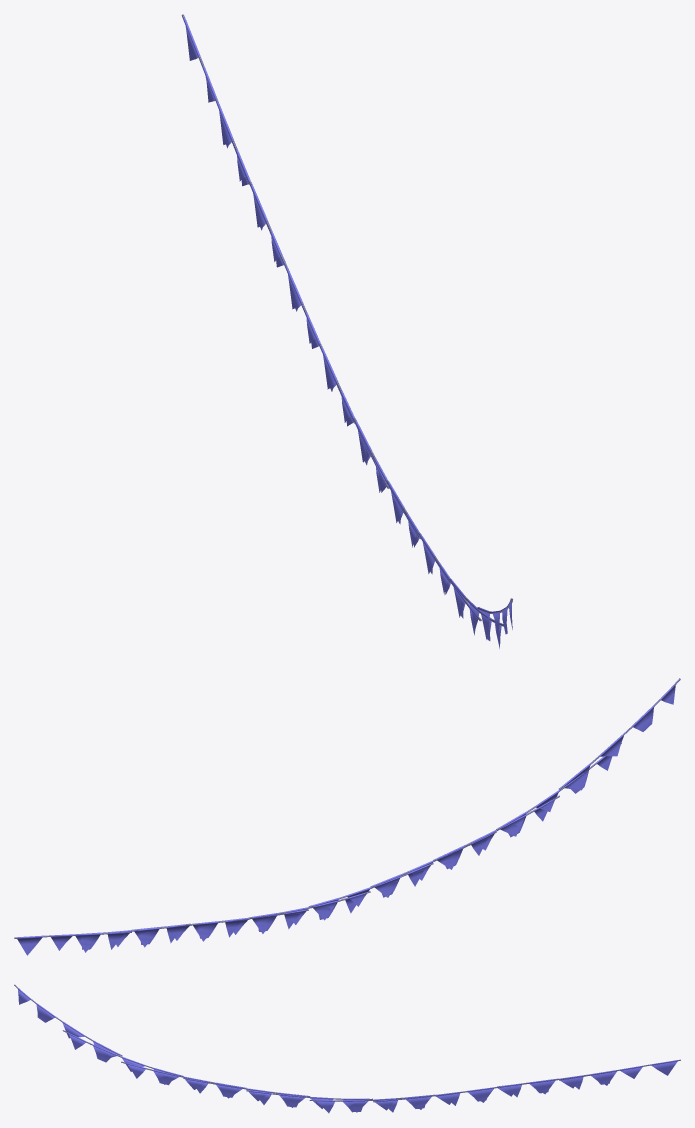
File: SM_rope_flags_01_Splines_6.fbx
The picture shows the model from 3 angles, top to bottom: view 1: azimuth 30°, elevation 25°; view 2: azimuth 150°, elevation 25°; view 3: azimuth 270°, elevation 25°; orthographic projection. The views are drawn at different scales.
Parts seen in each view (by area): view 1: SM_rope_flags_01_Splines_6_LOD0; view 2: SM_rope_flags_01_Splines_6_LOD0; view 3: SM_rope_flags_01_Splines_6_LOD0.
Boxes of the visible parts, <box> form: SM_rope_flags_01_Splines_6_LOD0: <box>181,14,512,648</box>; SM_rope_flags_01_Splines_6_LOD0: <box>14,678,680,955</box>; SM_rope_flags_01_Splines_6_LOD0: <box>14,984,680,1113</box>.
Size of the model in its own units: 597 by 2032 by 309.
